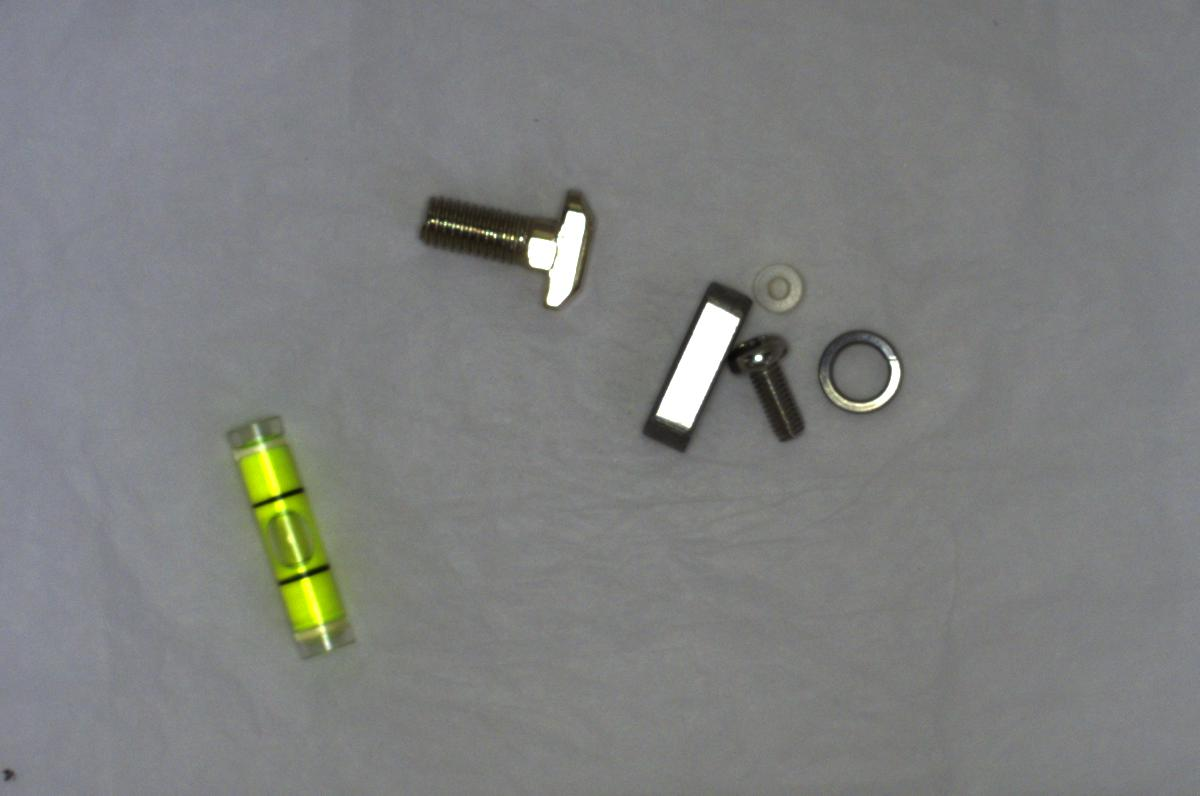Horizontal bubble: (219, 405, 357, 668)
Keybar: (617, 273, 750, 454)
Plastic cushion pillar: (750, 253, 806, 321)
Round head screw: (725, 331, 817, 449)
Spring washer: (803, 321, 908, 422)
T-shaped screw: (410, 171, 593, 315)
